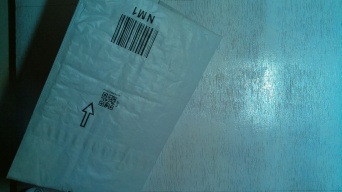a: (15, 1, 216, 187)
